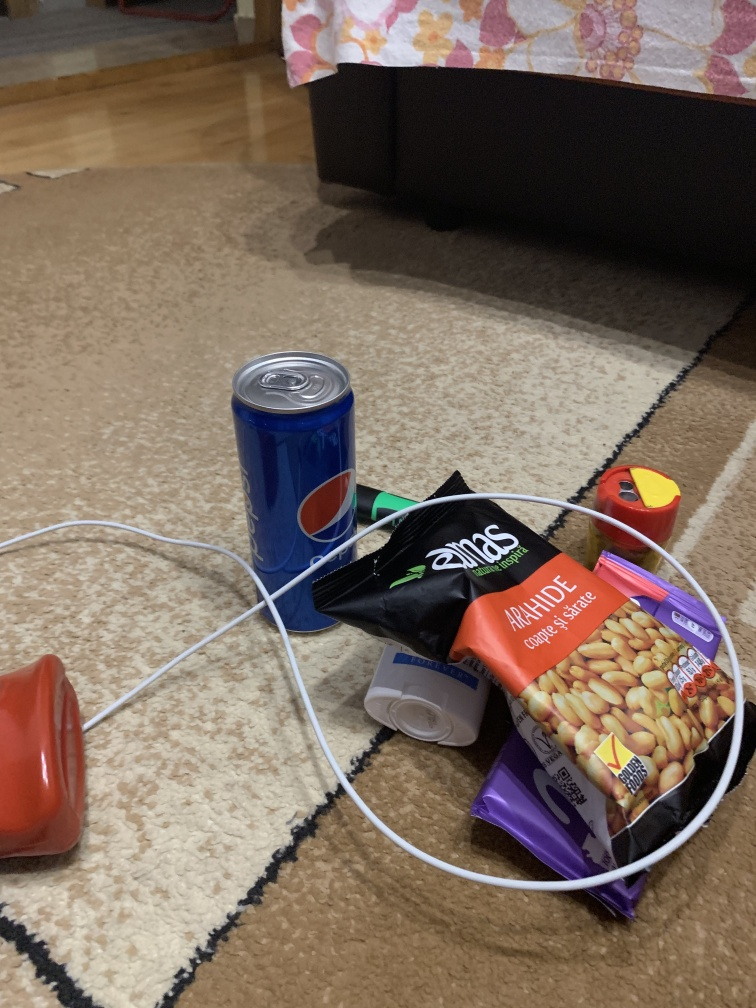peanuts: (322, 461, 753, 875)
pepsi: (224, 348, 372, 638)
